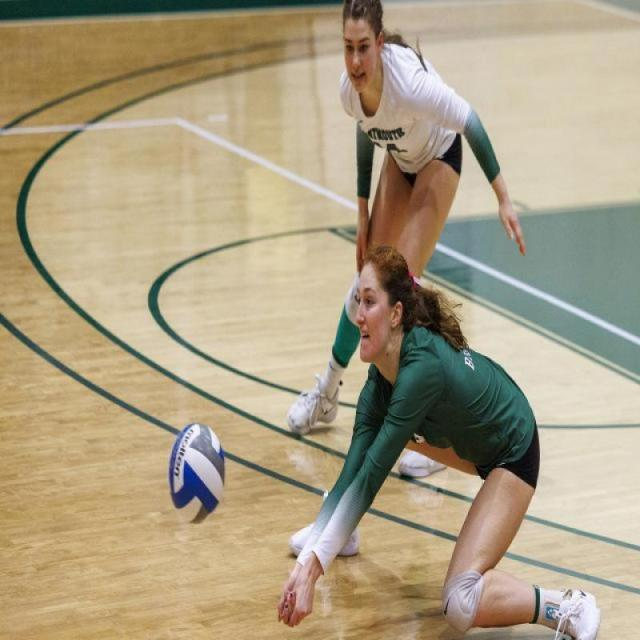volleyball: (166, 417, 228, 530)
